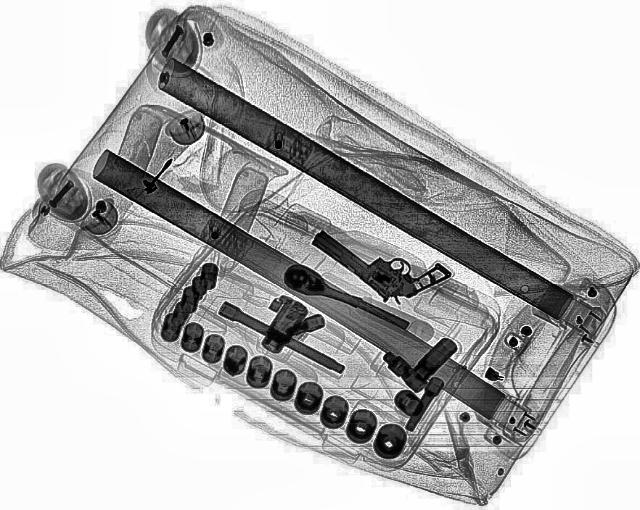Gun: (305, 202, 453, 312)
